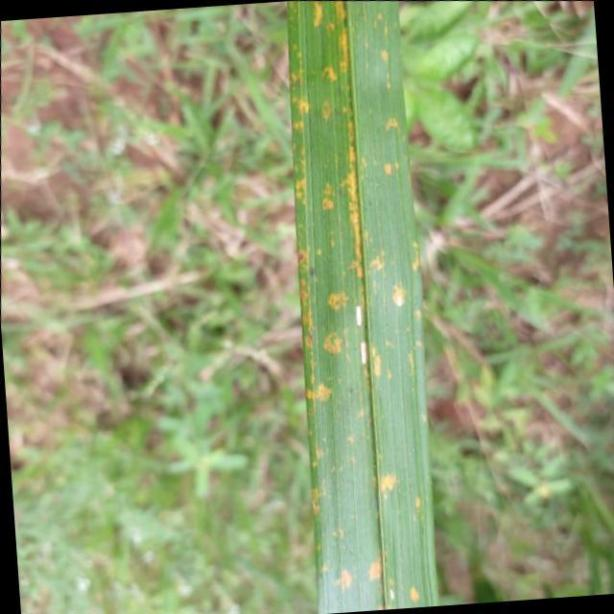Kalium: (291, 0, 443, 614)
